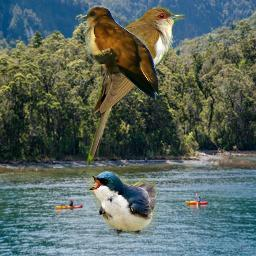Cuckoo: (87, 5, 185, 170), (78, 6, 158, 101)
Swallow: (86, 169, 157, 236)
